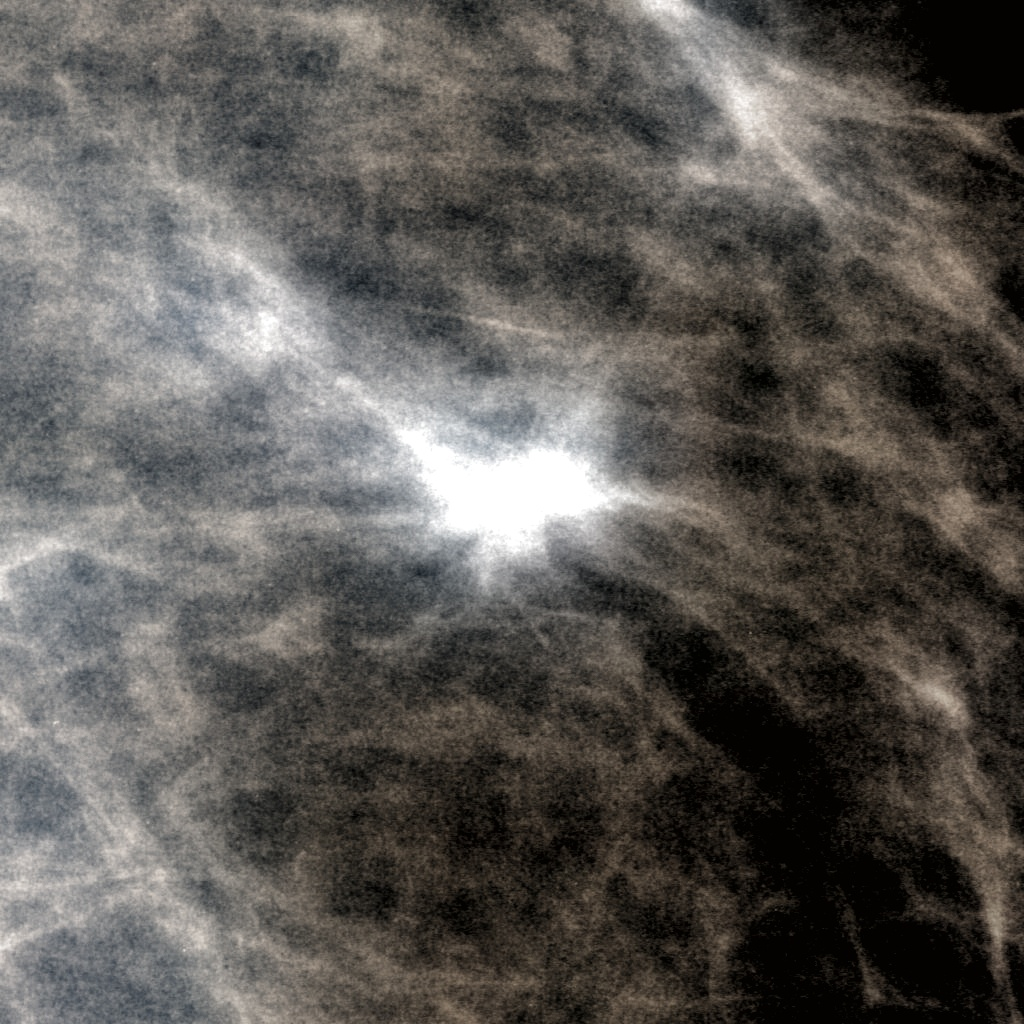tumor: (356, 378, 668, 646)
